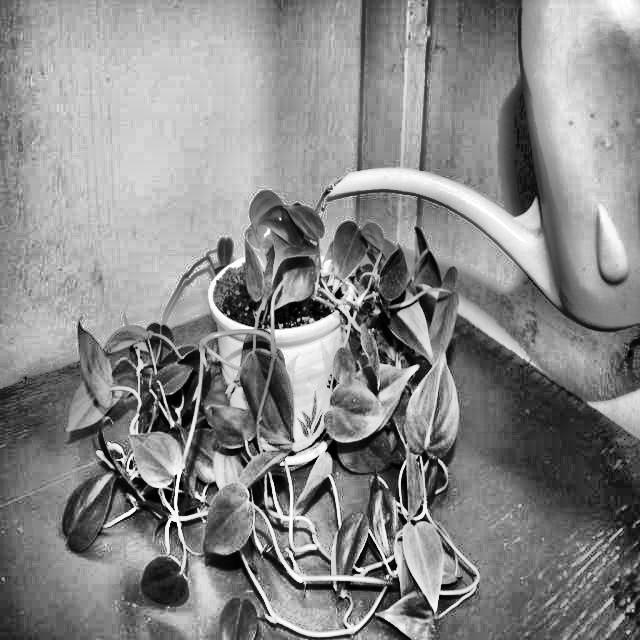plants: (47, 230, 490, 640)
